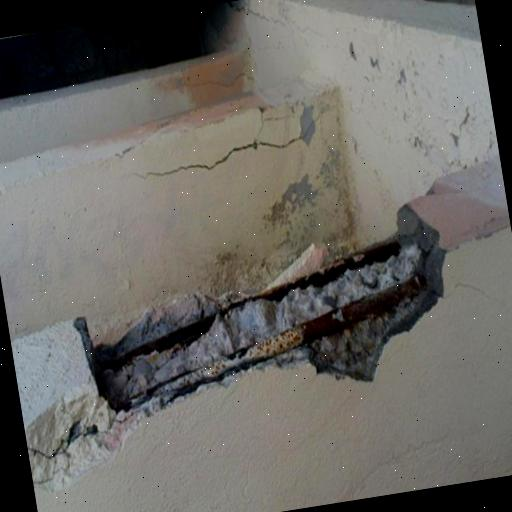spalling: (26, 199, 445, 490), (133, 98, 337, 190)
